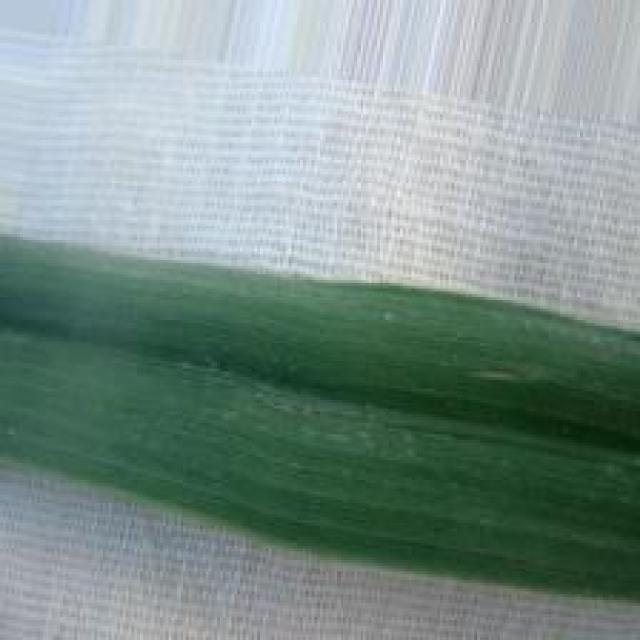Healthy: (0, 233, 640, 606)
